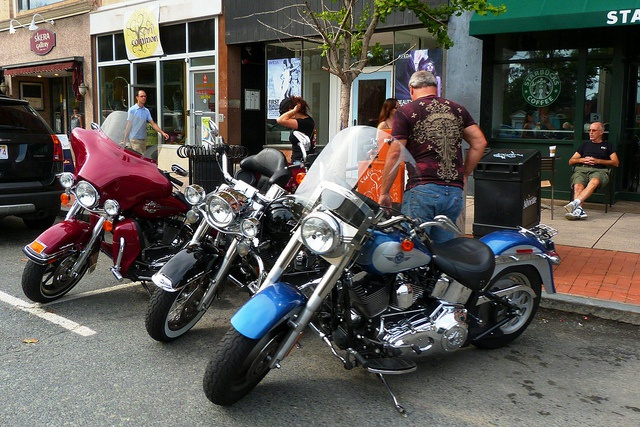non-vehicle: (201, 124, 562, 415), (143, 119, 328, 343), (19, 109, 200, 305)
